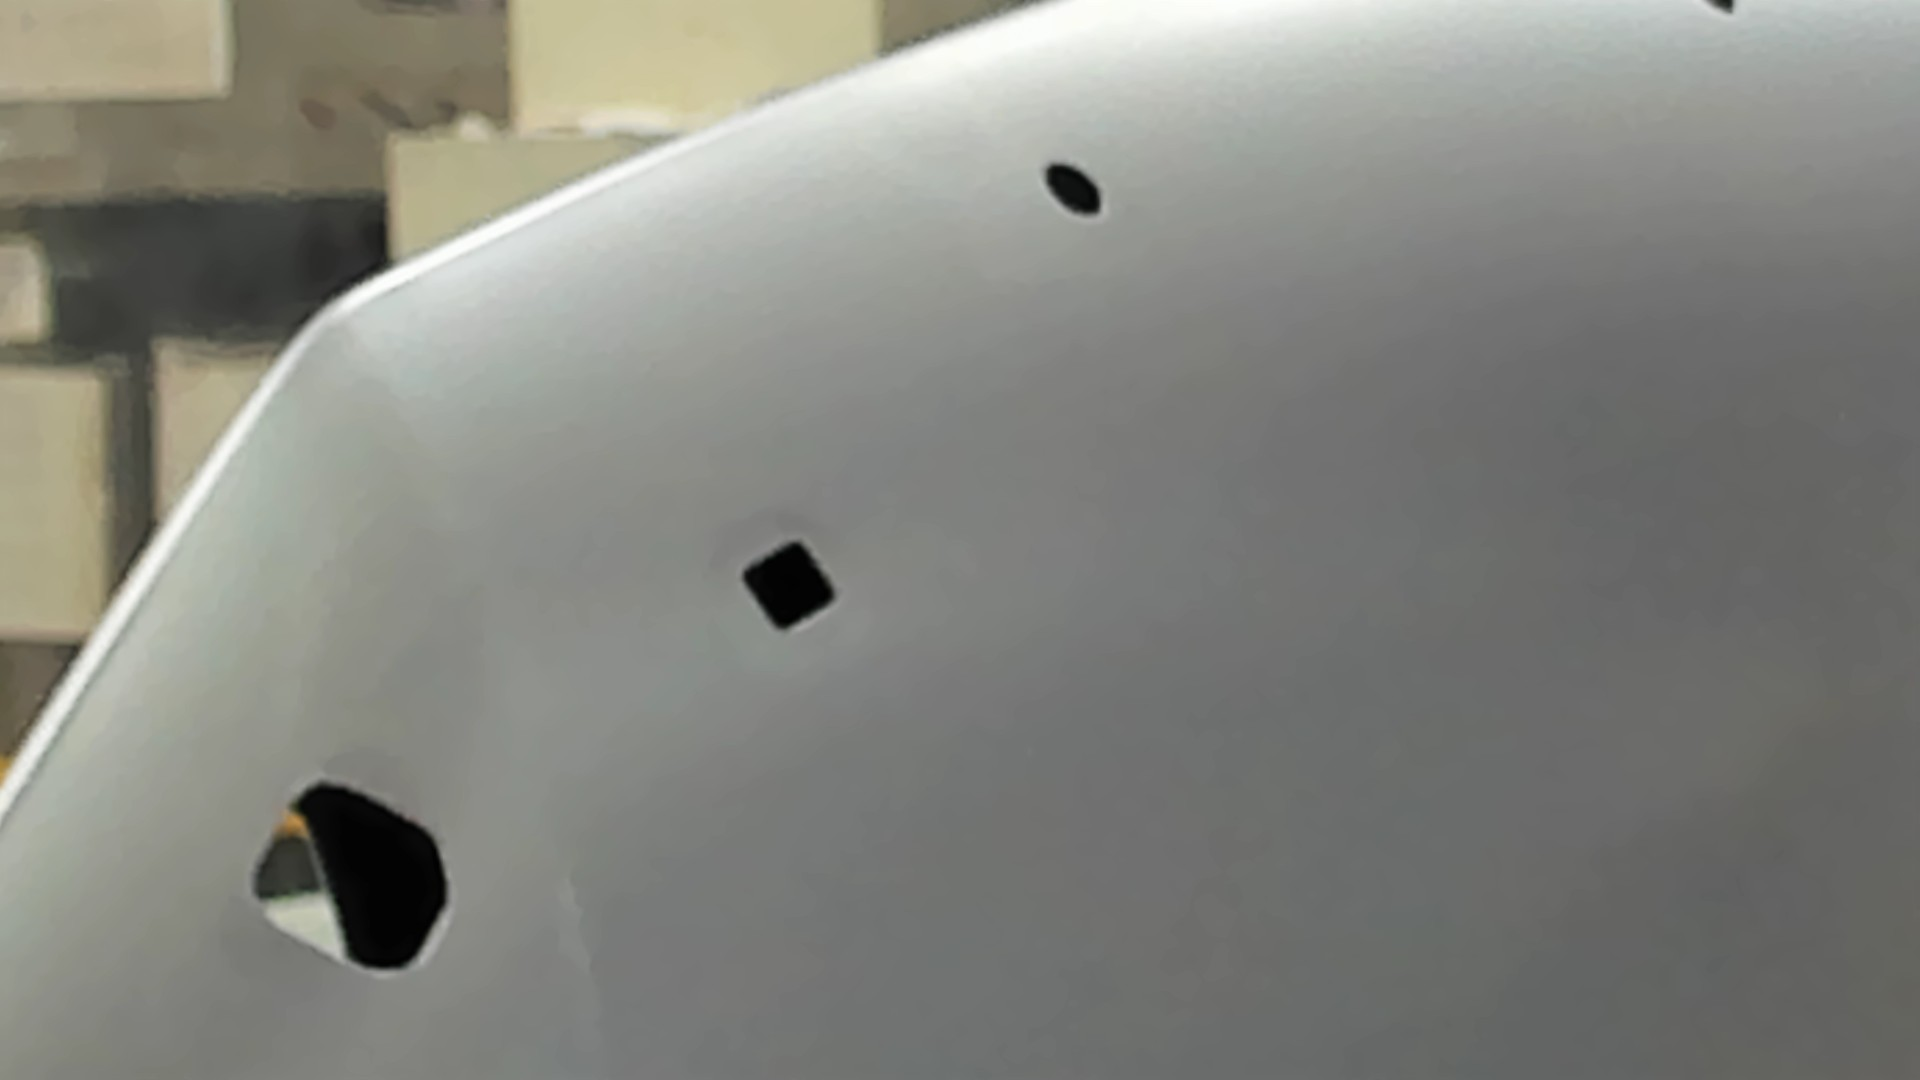chico: (1039, 158, 1104, 220), (1704, 1, 1738, 17)
grande: (247, 777, 456, 981)
mediano: (738, 535, 839, 637)
